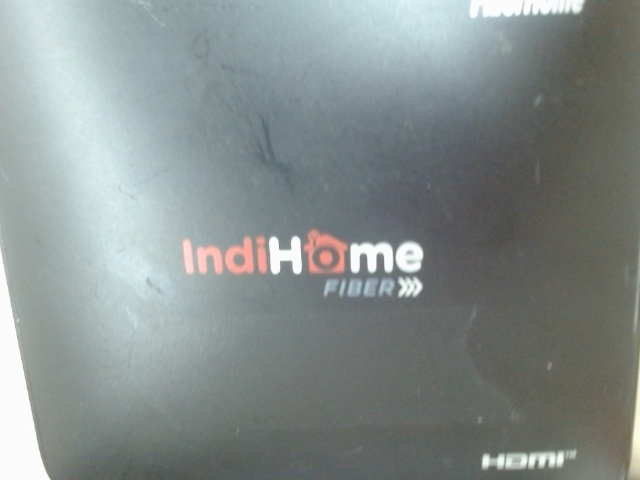AF_IndiHome: (170, 223, 428, 309)
